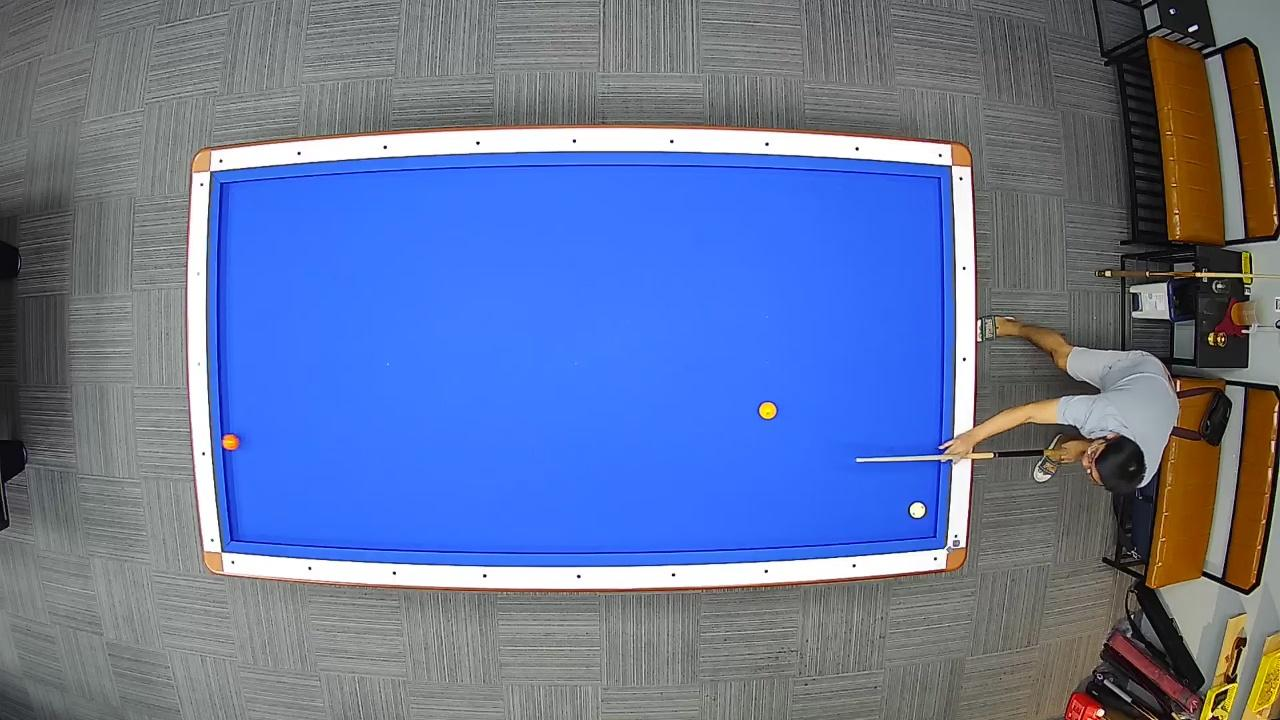Orange: (220, 432, 240, 454)
White: (906, 501, 928, 522)
Yellow: (756, 400, 780, 421)
